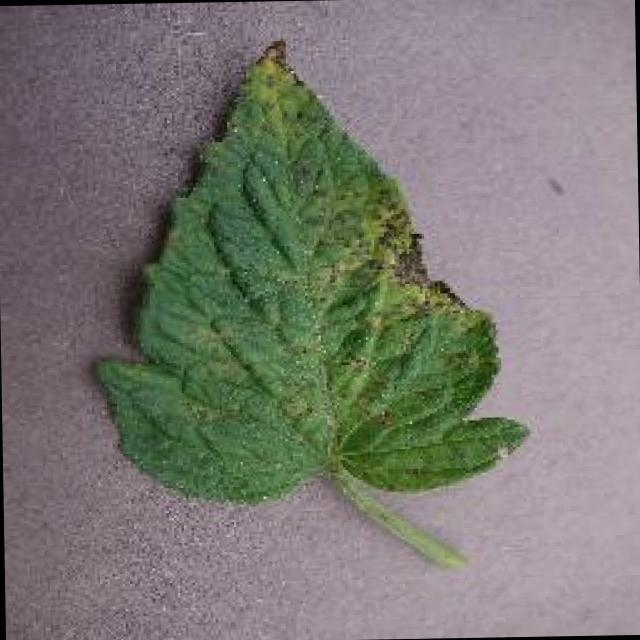Tomato Septoria spot leaf: (87, 34, 529, 503)
